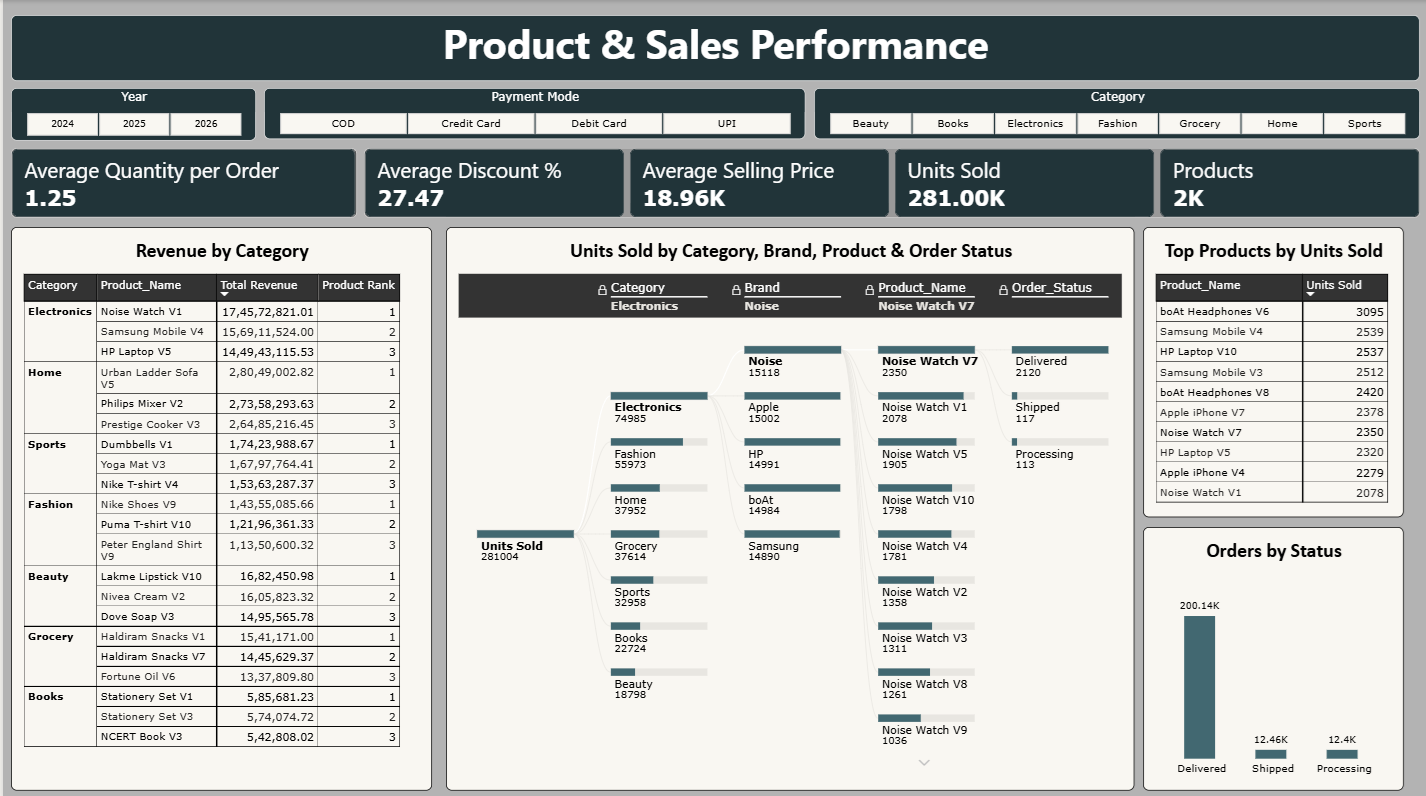

Layout of this report page (visuals, bound fields, positions):
{"tool":"powerbi","page":{"name":"Product & Sales Performance","canvas":[1920,1080],"ordinal":1},"visuals":[{"type":"textbox","box":[10.8,20.2,1897.4,88.9],"z":0},{"type":"slicer","title":"Year","fields":{"Values":["sales.Order_Date.Variation.Date Hierarchy.Year"]},"box":[10.8,118.5,329.9,71.4],"z":1000},{"type":"slicer","title":"Payment Mode","fields":{"Values":["sales.Payment_Mode"]},"box":[351.5,118.5,728.5,68.7],"z":2000},{"type":"slicer","title":"Category","fields":{"Values":["products.Category"]},"box":[1092.1,118.5,816.1,68.7],"z":3000},{"type":"pivotTable","title":"Revenue by Category","fields":{"Rows":["products.Category","products.Product_Name"],"Values":["Measure.Total Revenue","Measure.Product Rank"]},"box":[10.4,306.2,566.5,758.8],"z":4000},{"type":"cardVisual","fields":{"Data":["Avg(products.Discount_Percent)","Measure.Average Selling Price","Measure.Units Sold","Count(products.Product_ID)"]},"box":[486.1,199.3,1422,94.3],"z":5000},{"type":"cardVisual","fields":{"Data":["Measure.Avg Quantity per Order"]},"box":[10.8,199.3,465.9,94.3],"z":6000},{"type":"pivotTable","title":"Top Products by Units Sold","fields":{"Rows":["products.Product_Name"],"Values":["Measure.Units Sold"]},"box":[1535.4,306.2,350.6,390.5],"z":7000},{"type":"clusteredColumnChart","title":"Orders by Status","fields":{"Category":["sales.Order_Status"],"Y":["CountNonNull(sales.Order_Status)"]},"box":[1535.4,710,350.6,355],"z":8000},{"type":"decompositionTreeVisual","title":"Units Sold by Category, Brand, Product & Order Status","fields":{"Analyze":["Measure.Units Sold"],"ExplainBy":["products.Category","products.Brand","products.Product_Name","sales.Order_Status"]},"box":[596.1,306.2,927.5,758.8],"z":9000}]}

Visuals, with their boxes in screenshot pixels (x1, y1, x2, y2), scaled from the page's 1920x1080 canvas onto the 1426x796 screenshot:
textbox: [x1=8, y1=15, x2=1417, y2=80]
"Year" slicer: [x1=8, y1=87, x2=253, y2=140]
"Payment Mode" slicer: [x1=261, y1=87, x2=802, y2=138]
"Category" slicer: [x1=811, y1=87, x2=1417, y2=138]
"Revenue by Category" pivotTable: [x1=8, y1=226, x2=428, y2=785]
cardVisual - Avg(products.Discount_Percent) x Measure.Average Selling Price: [x1=361, y1=147, x2=1417, y2=216]
cardVisual - Measure.Avg Quantity per Order: [x1=8, y1=147, x2=354, y2=216]
"Top Products by Units Sold" pivotTable: [x1=1140, y1=226, x2=1401, y2=513]
"Orders by Status" clusteredColumnChart: [x1=1140, y1=523, x2=1401, y2=785]
"Units Sold by Category, Brand, Product & Order Status" decompositionTreeVisual: [x1=443, y1=226, x2=1132, y2=785]
